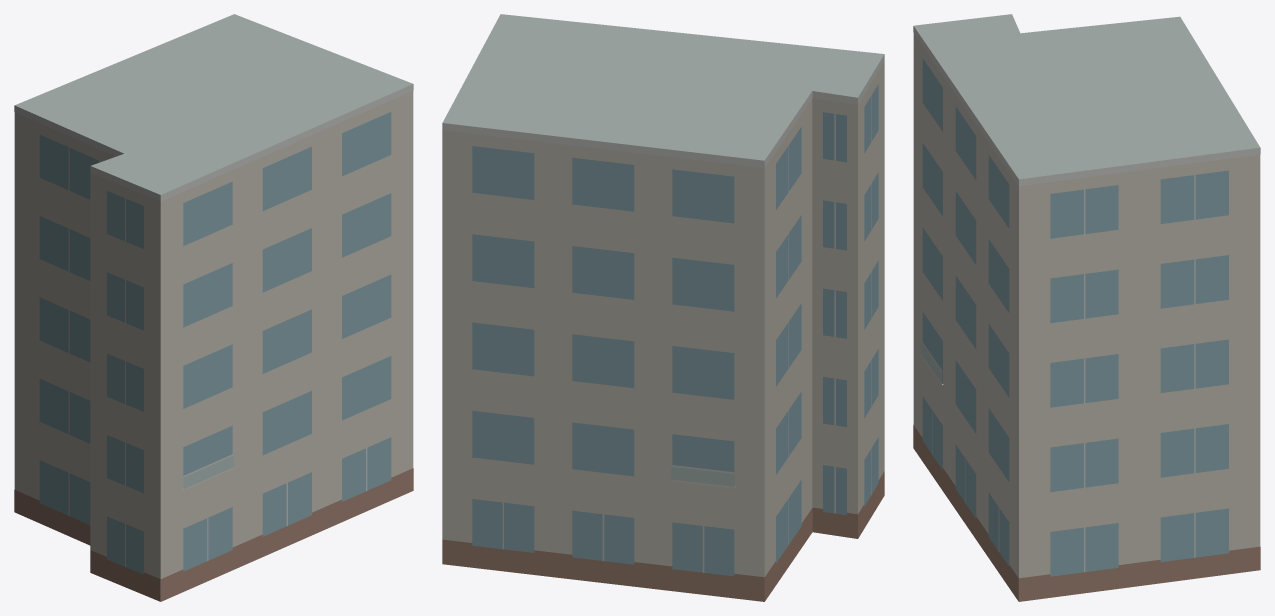
File: survey-upis-32947398.glb
The picture shows the model from 3 angles, left to right: view 1: azimuth 30°, elevation 25°; view 2: azimuth 150°, elevation 25°; view 3: azimuth 270°, elevation 25°; orthographic projection. The views are drawn at different scales.
Parts seen in each view (by area): view 1: survey-upis-32947398.tmp; view 2: survey-upis-32947398.tmp; view 3: survey-upis-32947398.tmp.
Part boxes in pixels (box(x1,y1,x2,y2)): survey-upis-32947398.tmp: box(14, 14, 413, 601); survey-upis-32947398.tmp: box(442, 14, 884, 601); survey-upis-32947398.tmp: box(913, 14, 1260, 601).
Bounding box in the file's own units: 12.52 × 14.9 × 11.1.
